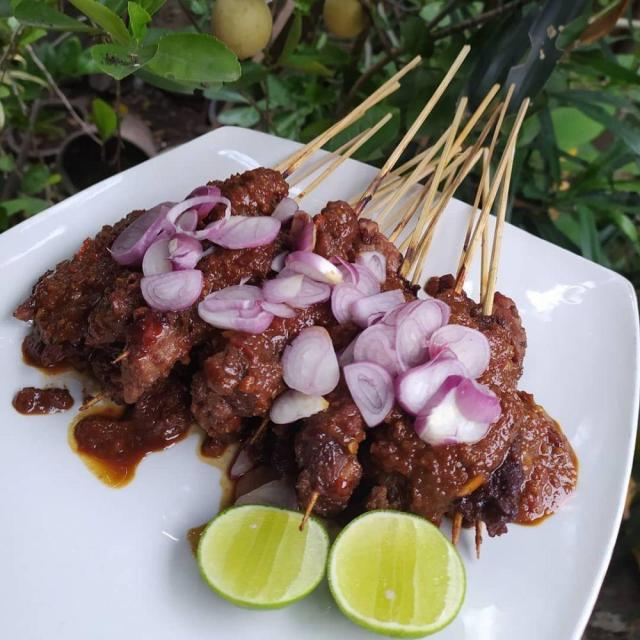Sate: (34, 46, 596, 502)
